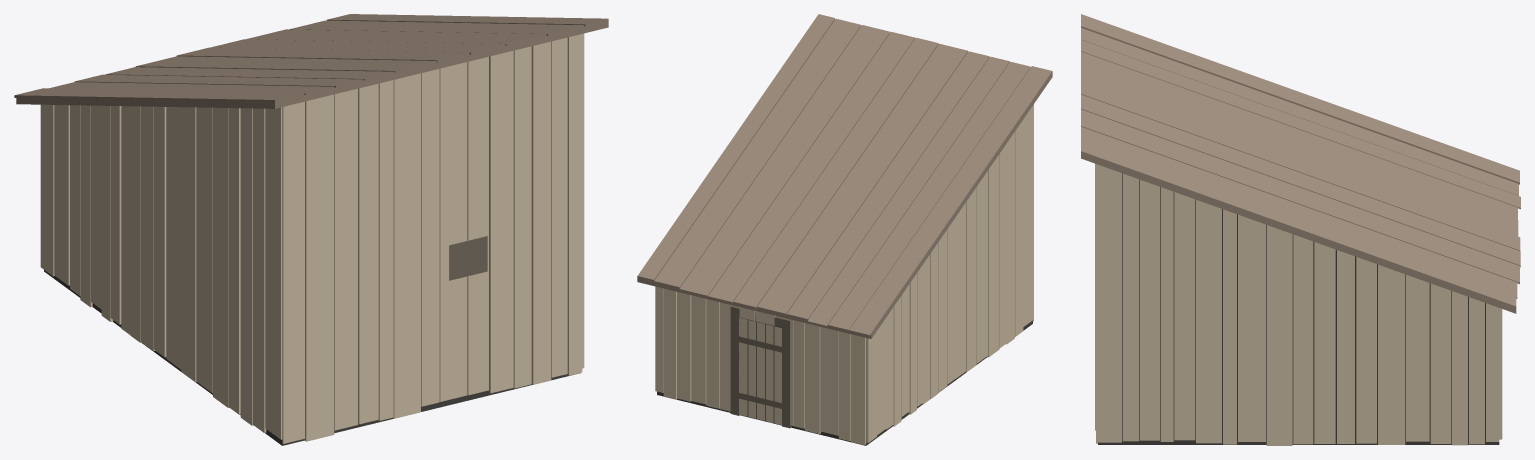
File: recon_1835_blk_school_section_tier_95_d2_03__inferred_1835.glb
3 views of the same model, side by side, from view 1: azimuth 30°, elevation 25°; view 2: azimuth 150°, elevation 25°; view 3: azimuth 270°, elevation 25° (orthographic). The views are drawn at different scales.
Parts seen in each view (by area): view 1: recon_1835_blk_school_section_tier_95_d2_03__inferred_1835; view 2: recon_1835_blk_school_section_tier_95_d2_03__inferred_1835; view 3: recon_1835_blk_school_section_tier_95_d2_03__inferred_1835.
Part boxes in pixels (left/top/right/bottom): recon_1835_blk_school_section_tier_95_d2_03__inferred_1835: left=14, top=14, right=608, bottom=445; recon_1835_blk_school_section_tier_95_d2_03__inferred_1835: left=637, top=14, right=1052, bottom=445; recon_1835_blk_school_section_tier_95_d2_03__inferred_1835: left=1081, top=14, right=1520, bottom=445.
Bounding box in the file's own units: 4.65 × 4.76 × 6.3.
